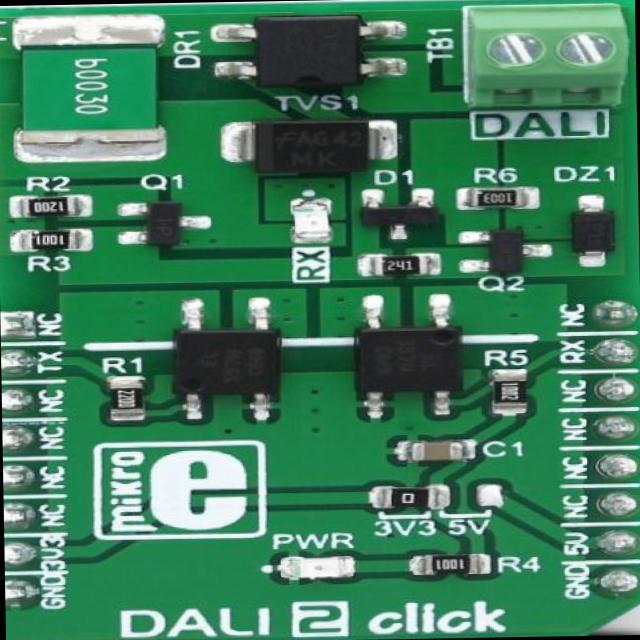IC: (170, 309, 278, 416), (358, 304, 466, 406), (235, 15, 382, 86)
LED: (280, 552, 354, 580), (296, 202, 332, 239)
capacitor: (409, 443, 475, 464)
connector: (463, 2, 631, 106)
diode: (239, 120, 384, 176), (571, 202, 613, 255)
resistor: (12, 16, 162, 148), (108, 376, 146, 414), (490, 372, 528, 406), (22, 196, 78, 217), (471, 190, 529, 210), (378, 252, 429, 274), (421, 556, 476, 574), (389, 487, 436, 508), (25, 230, 79, 248)
transistor: (362, 193, 435, 240), (130, 200, 204, 244), (472, 228, 538, 274)
